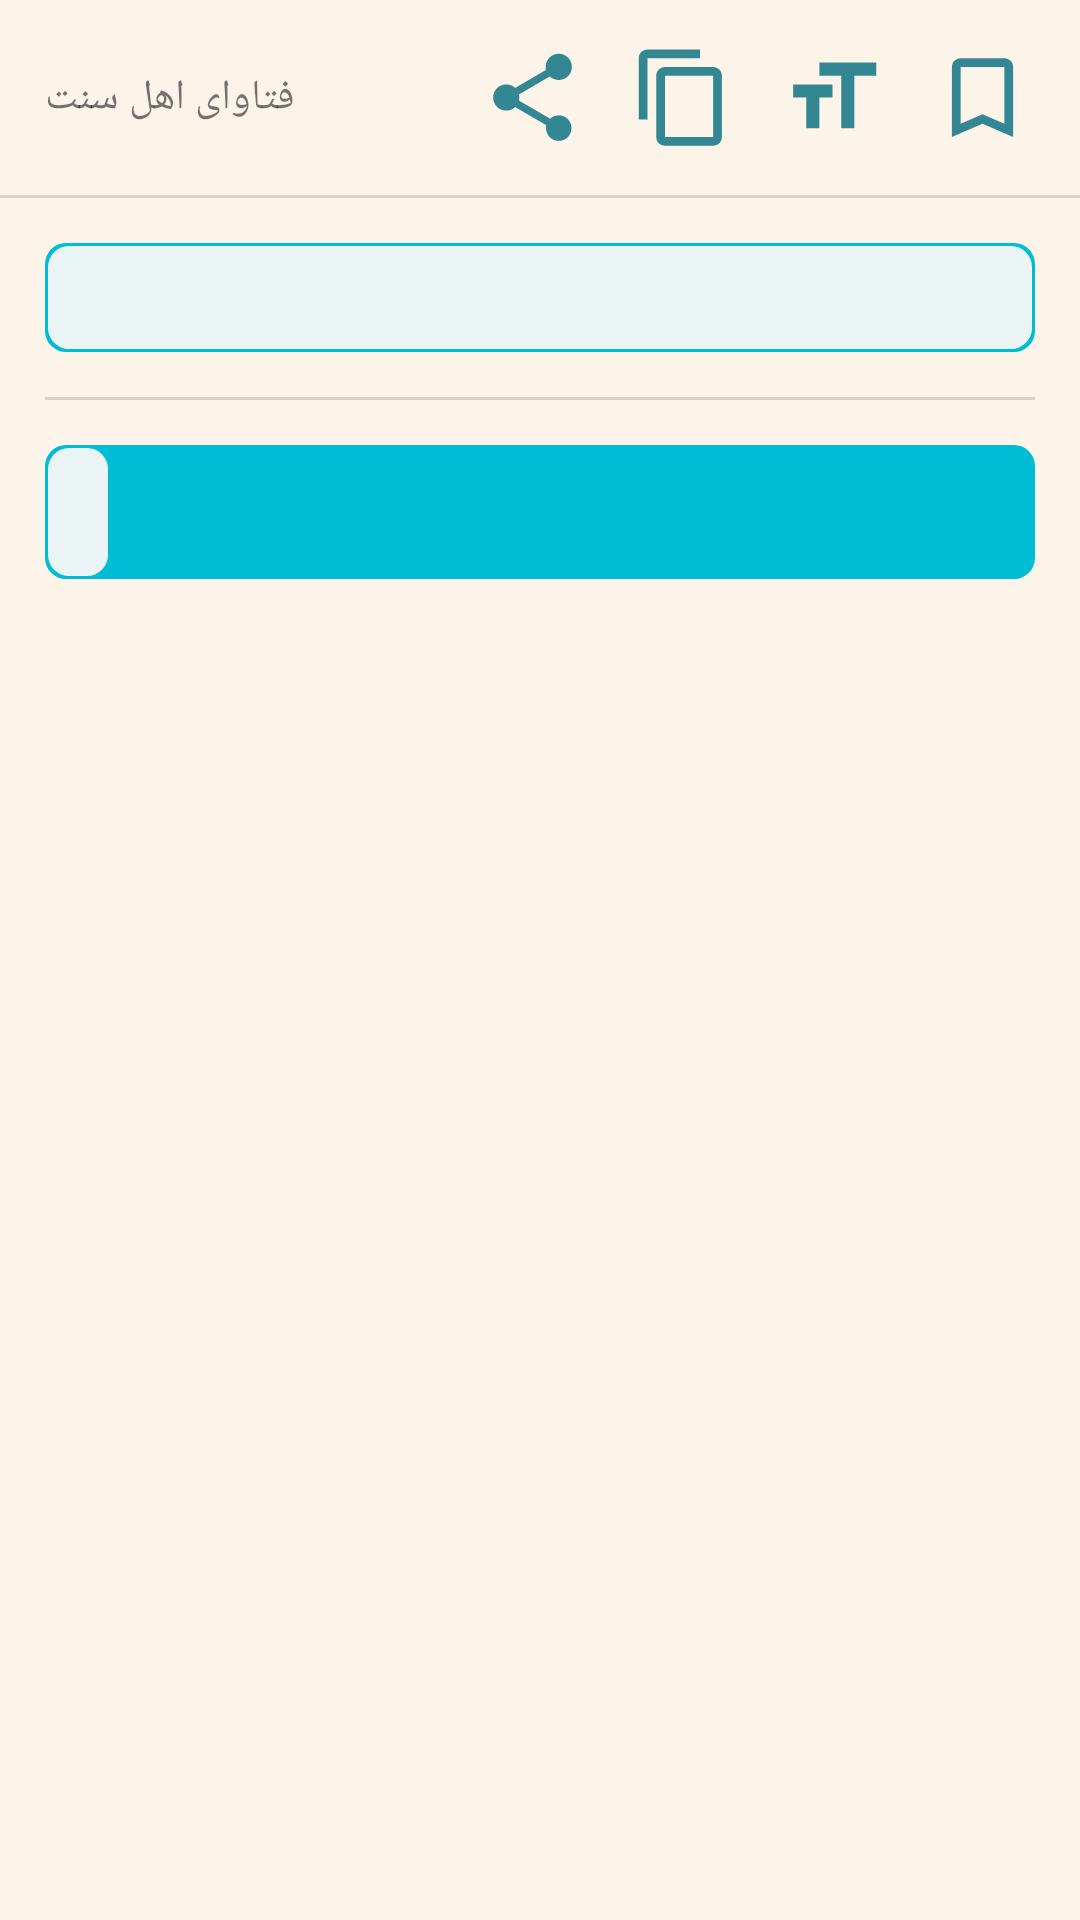

Named icons in this screenshot (1080 x 1920) and their bounding boxes, rect(x1, y1, x2, y2):
bookmark border: rect(951, 58, 1014, 137)
format size: rect(793, 62, 877, 129)
share: rect(493, 53, 572, 141)
